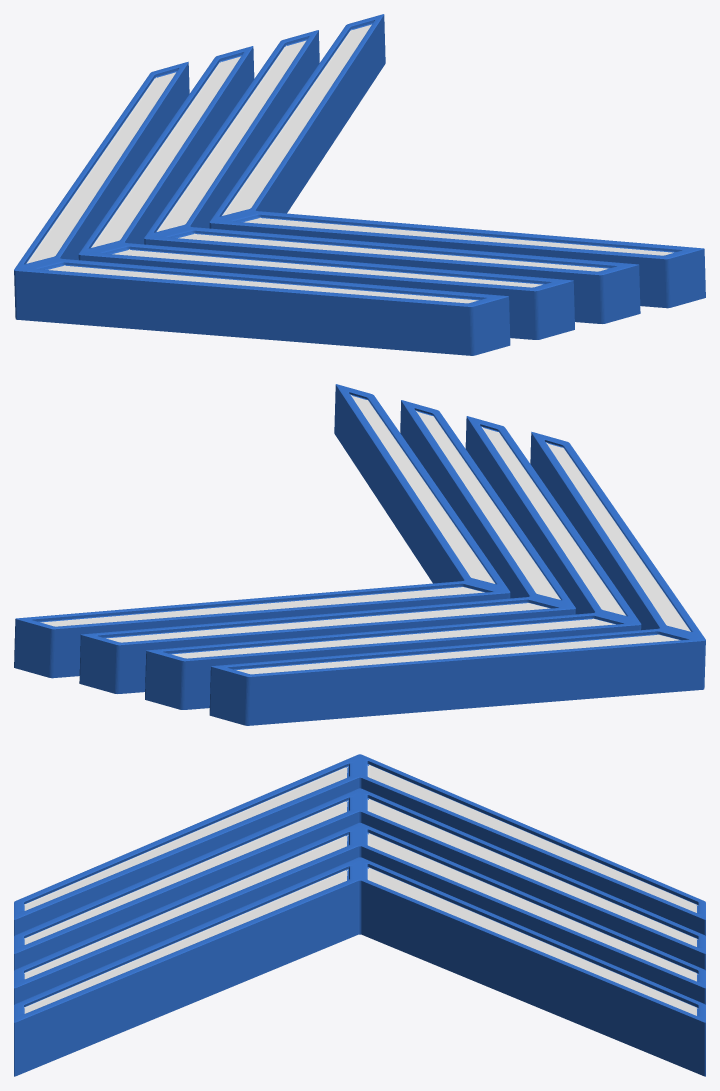
The model's file is asset.glb.
3 views of the same model, one above another, from view 1: azimuth 30°, elevation 25°; view 2: azimuth 150°, elevation 25°; view 3: azimuth 270°, elevation 25° (orthographic). The views are drawn at different scales.
Visible parts, largest first — view 1: Cube, Cube.003, Cube.002, Cube.001; view 2: Cube, Cube.003, Cube.002, Cube.001; view 3: Cube.003, Cube.002, Cube.001, Cube.
Part boxes in pixels (<box>): Cube: <box>14,61,510,355</box>; Cube.003: <box>209,14,705,308</box>; Cube.002: <box>144,30,640,323</box>; Cube.001: <box>78,46,574,339</box>; Cube: <box>209,431,705,725</box>; Cube.003: <box>14,384,510,678</box>; Cube.002: <box>79,400,575,693</box>; Cube.001: <box>145,416,641,709</box>; Cube.003: <box>14,857,705,1076</box>; Cube.002: <box>14,822,705,1004</box>; Cube.001: <box>14,788,705,970</box>; Cube: <box>14,754,705,935</box>.
Bounding box in the file's own units: 1.34 × 0.1426 × 1.4.
